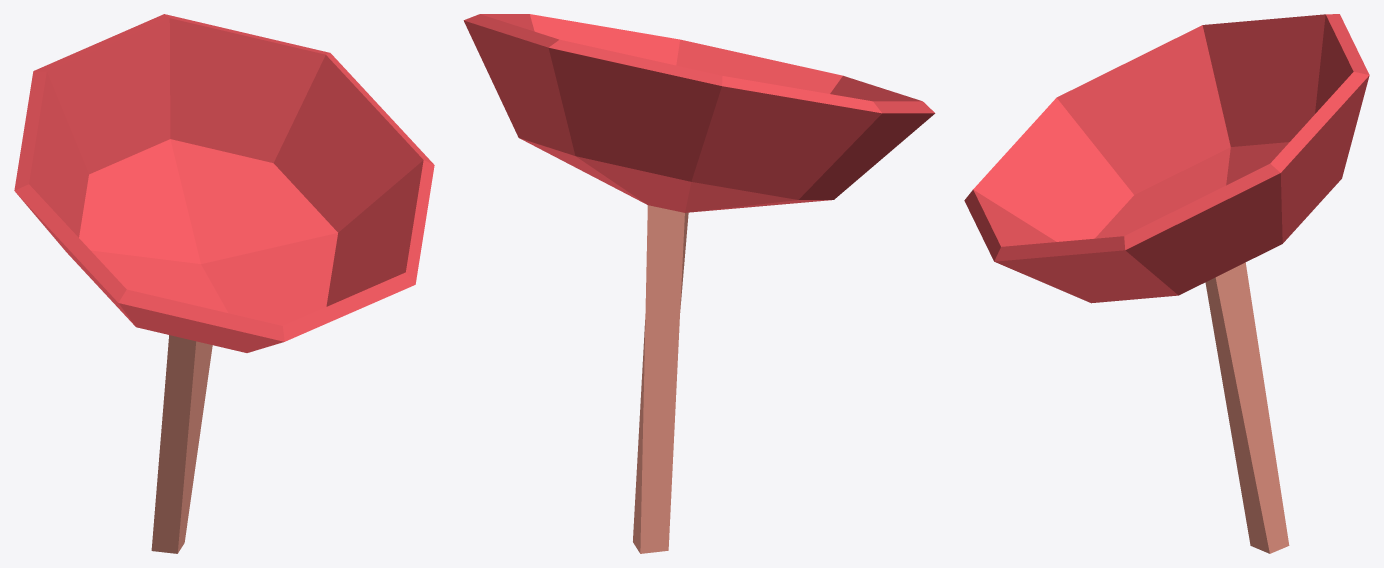
Rendered from Mushroom_d_03.fbx.
3 renders of one model, left to right at view 1: azimuth 30°, elevation 25°; view 2: azimuth 150°, elevation 25°; view 3: azimuth 270°, elevation 25°, orthographic. The views are drawn at different scales.
Parts seen in each view (by area): view 1: Mushroom_d_03; view 2: Mushroom_d_03; view 3: Mushroom_d_03.
Boxes of the visible parts, box(x1,y1,x2,y2) form: Mushroom_d_03: box(14, 14, 434, 553); Mushroom_d_03: box(463, 14, 935, 553); Mushroom_d_03: box(964, 14, 1369, 553).
Size of the model in its own units: 15.99 by 19.67 by 14.59.
